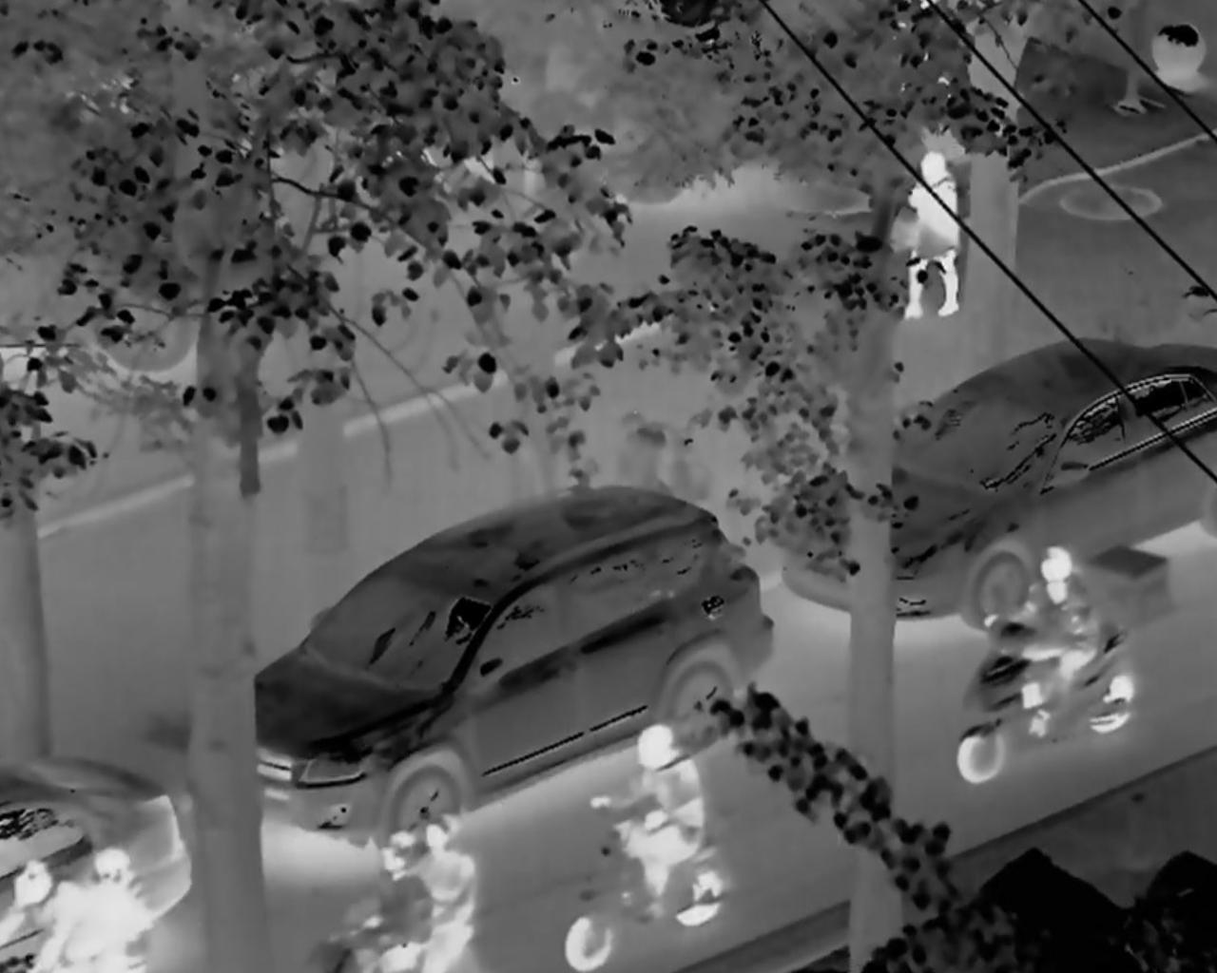person: (939, 548, 1149, 778), (547, 715, 741, 948), (889, 137, 971, 334), (12, 846, 115, 973), (340, 828, 429, 973), (413, 813, 491, 973), (86, 833, 169, 973)
